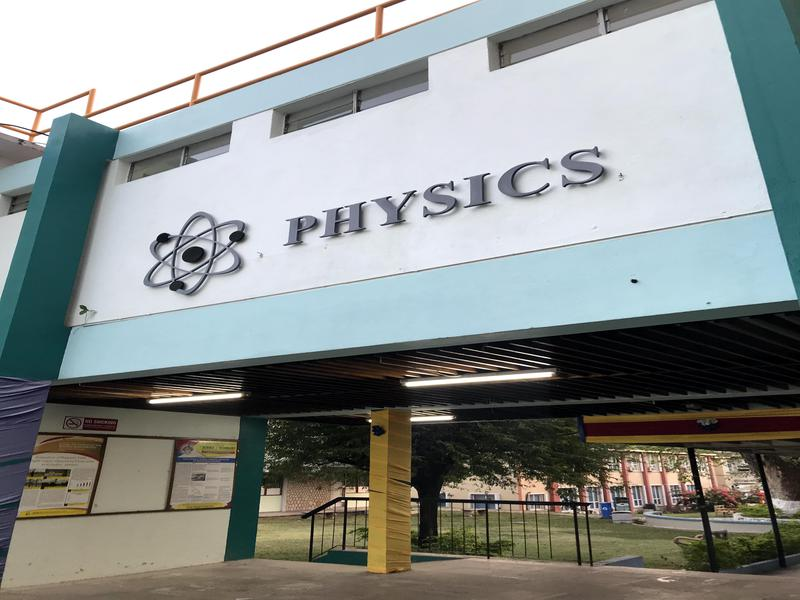18.0053657_-76.7491452_physicssign: (139, 132, 632, 305)
